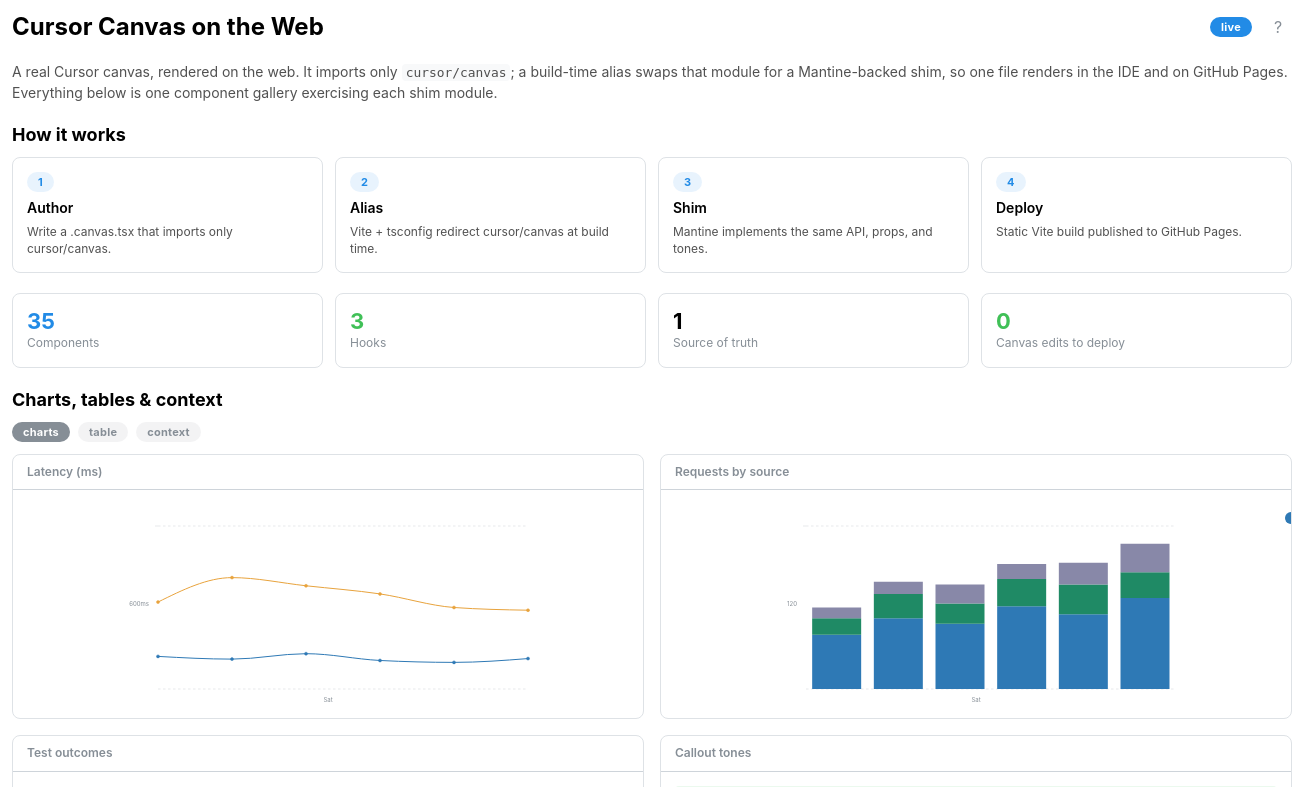
Test case: DemoCanvas showcase › reveals the data Table when the "table" tab is selected
Click the text "table" at (103, 432), box top-left (89, 423), bottom-right (117, 441)
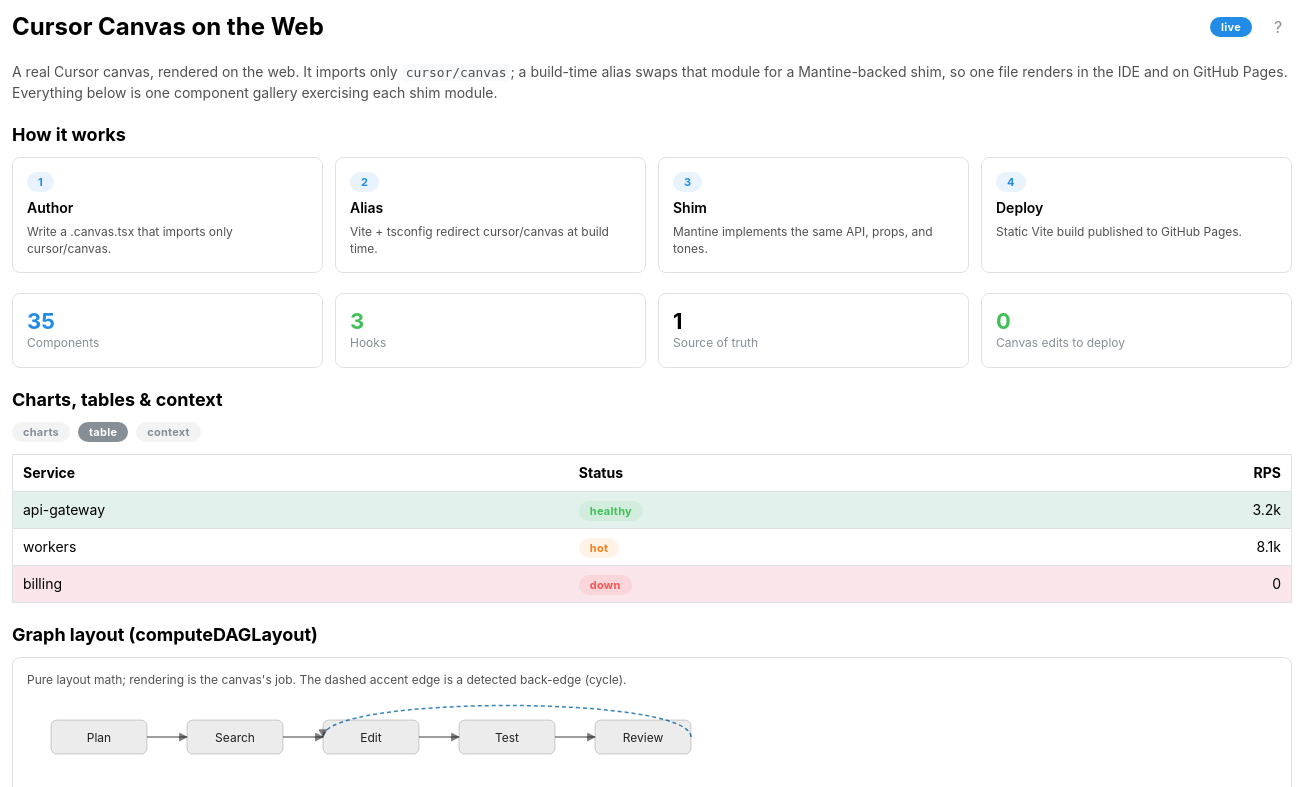
Expected: the column heading "Status" is shown, top-left (569, 454), bottom-right (1025, 491)
Expected: the column heading "RPS" is shown, top-left (1025, 454), bottom-right (1292, 491)
Expected: the text "api-gateway" is shown, top-left (12, 491), bottom-right (569, 528)
